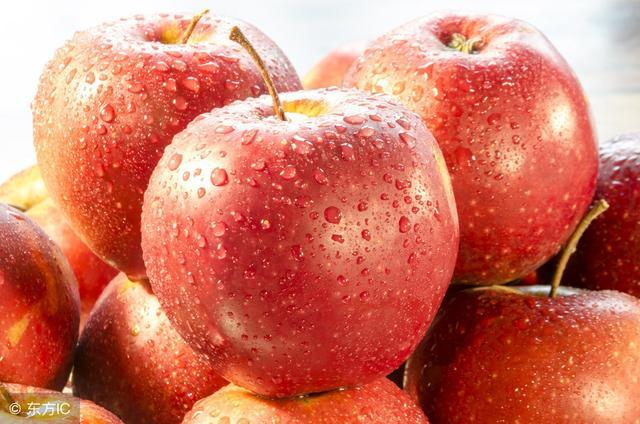apple: (139, 90, 460, 392), (31, 13, 308, 281), (344, 11, 594, 285), (402, 283, 639, 424)
